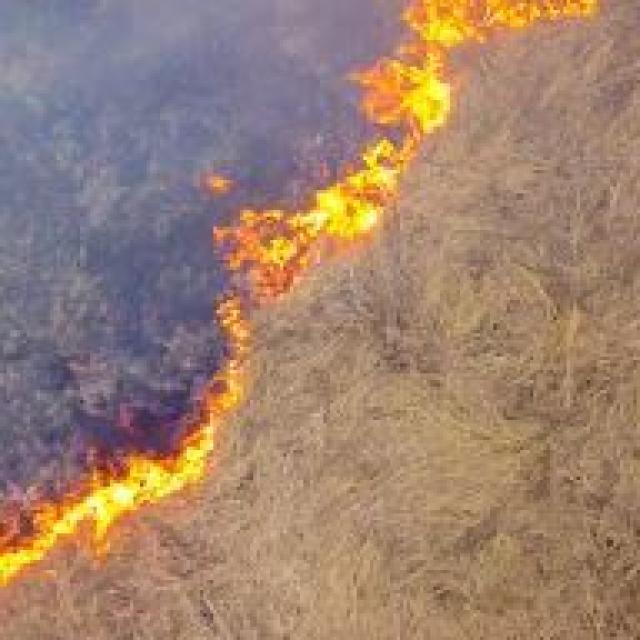Fire: (0, 416, 234, 588), (206, 150, 415, 292), (390, 1, 606, 52), (368, 54, 466, 134), (212, 300, 257, 432)
Smoke: (0, 22, 286, 230)
